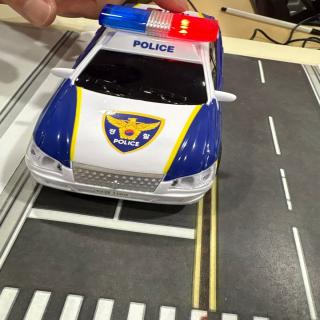Police_car: (25, 4, 236, 204)
